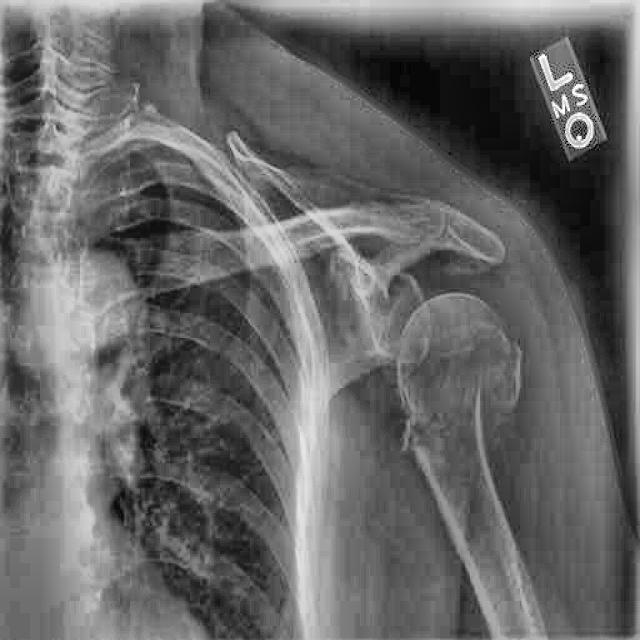shoulder fracture: (459, 339, 532, 465), (378, 385, 442, 484)
